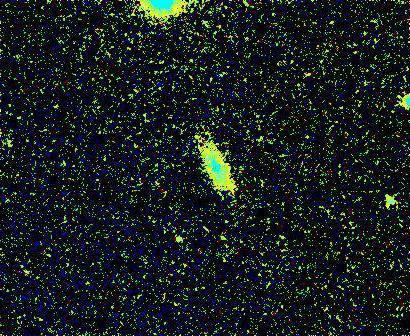star: (166, 226, 196, 256)
